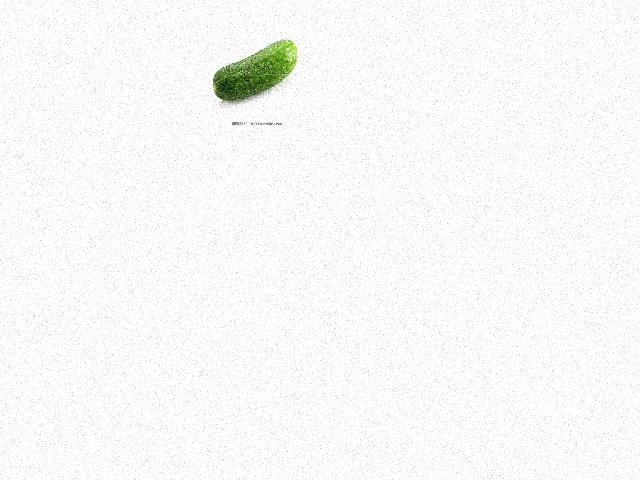cucumber: (212, 39, 296, 101)
